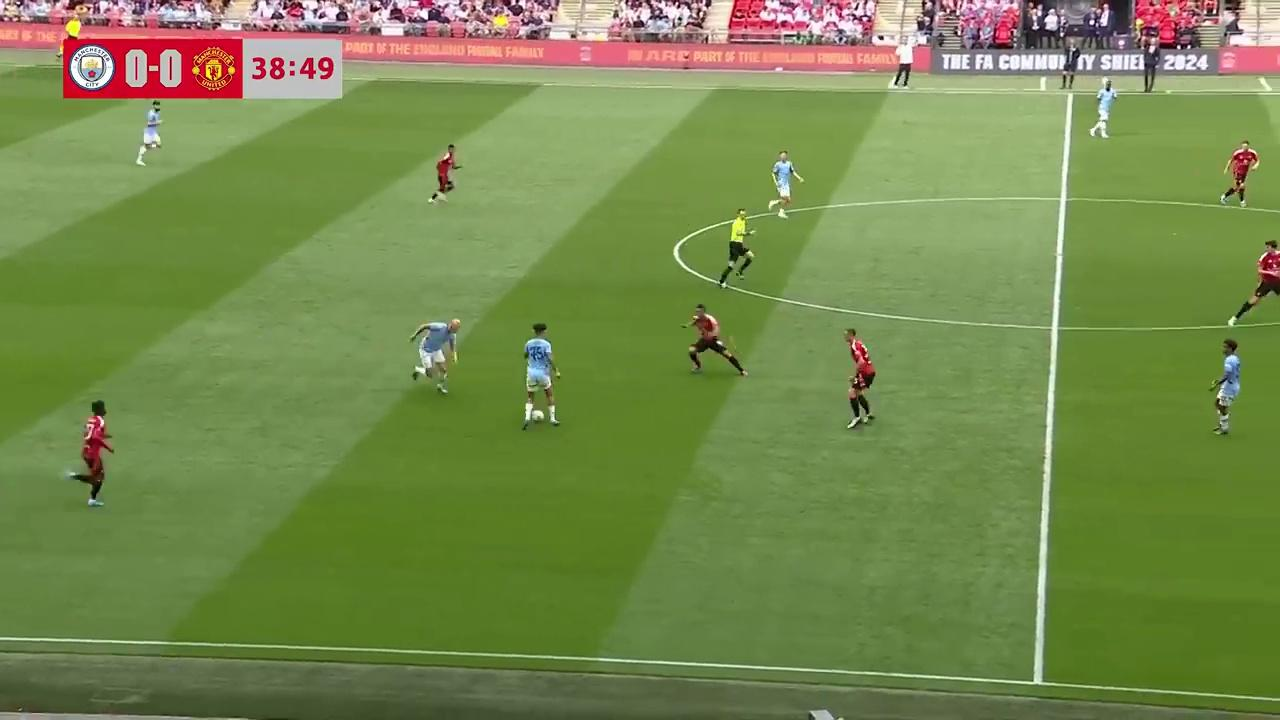ball: (530, 408, 544, 426)
player: (683, 302, 747, 376), (408, 316, 462, 395), (75, 399, 114, 507), (522, 323, 561, 429), (1236, 239, 1280, 320), (844, 328, 875, 429), (1209, 338, 1241, 435), (1220, 139, 1259, 207), (768, 150, 802, 218), (428, 144, 462, 204), (136, 101, 163, 163), (1089, 84, 1115, 138)
referee: (718, 207, 754, 287)
